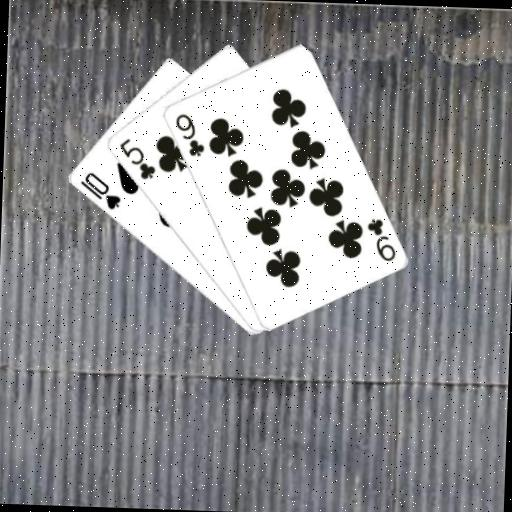10S: (75, 168, 122, 212)
5C: (114, 134, 158, 181)
9C: (170, 109, 207, 158), (362, 215, 398, 264)
